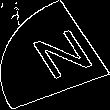N_SE: (17, 23, 93, 87)
